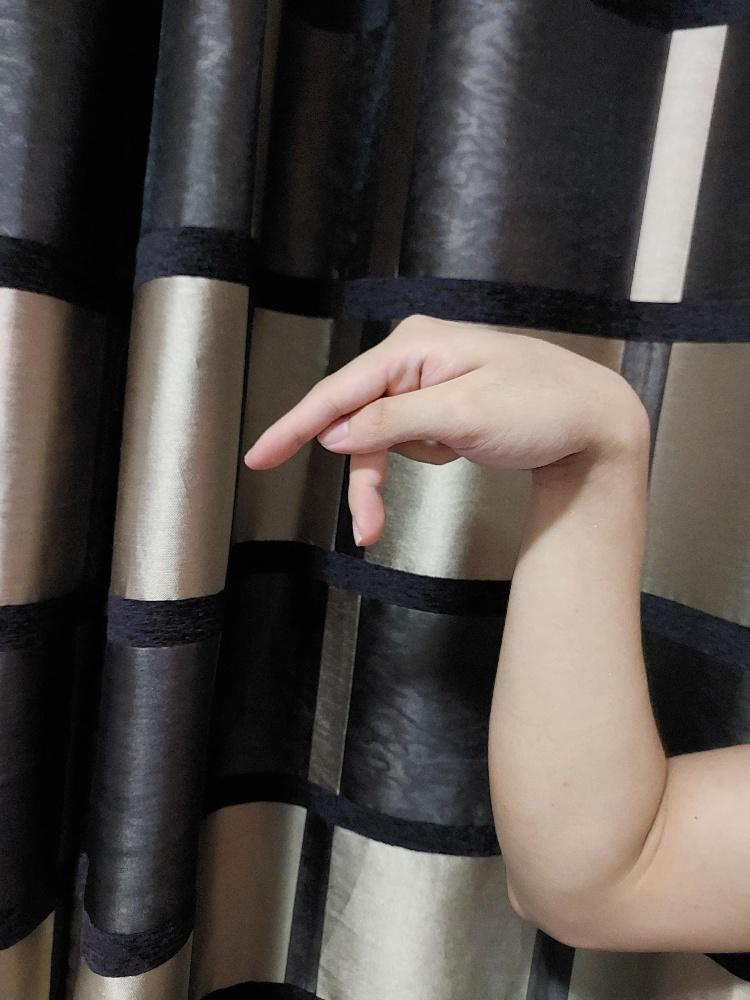p: (241, 311, 585, 548)
